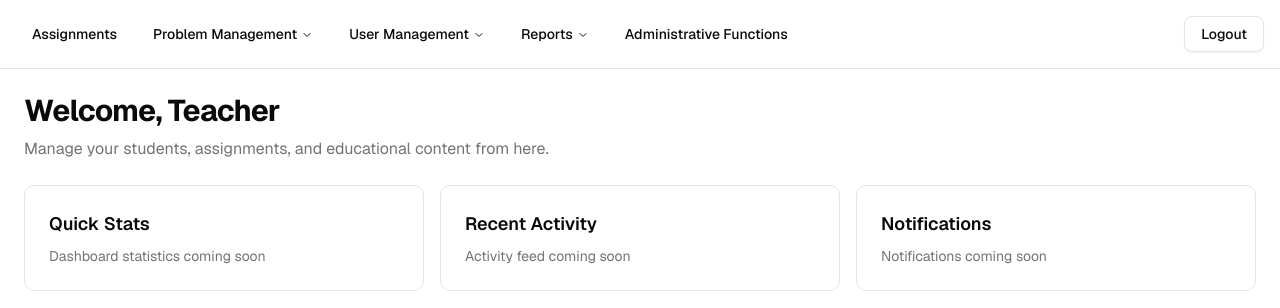
Test case: Teacher Navigation - Scenarios 3-7 › Scenario 5: User Management Dropdown › should show 2 dropdown items when User Management is clicked
Click the button "User Management" at (417, 34), box [333,16,501,52]
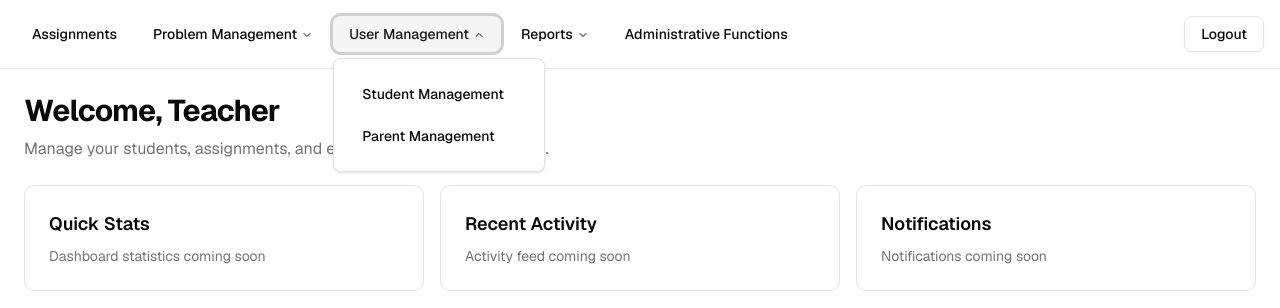
Expected: the link "Student Management" is shown, [362,85,504,103]
Expected: the link "Parent Management" is shown, [362,127,495,145]
